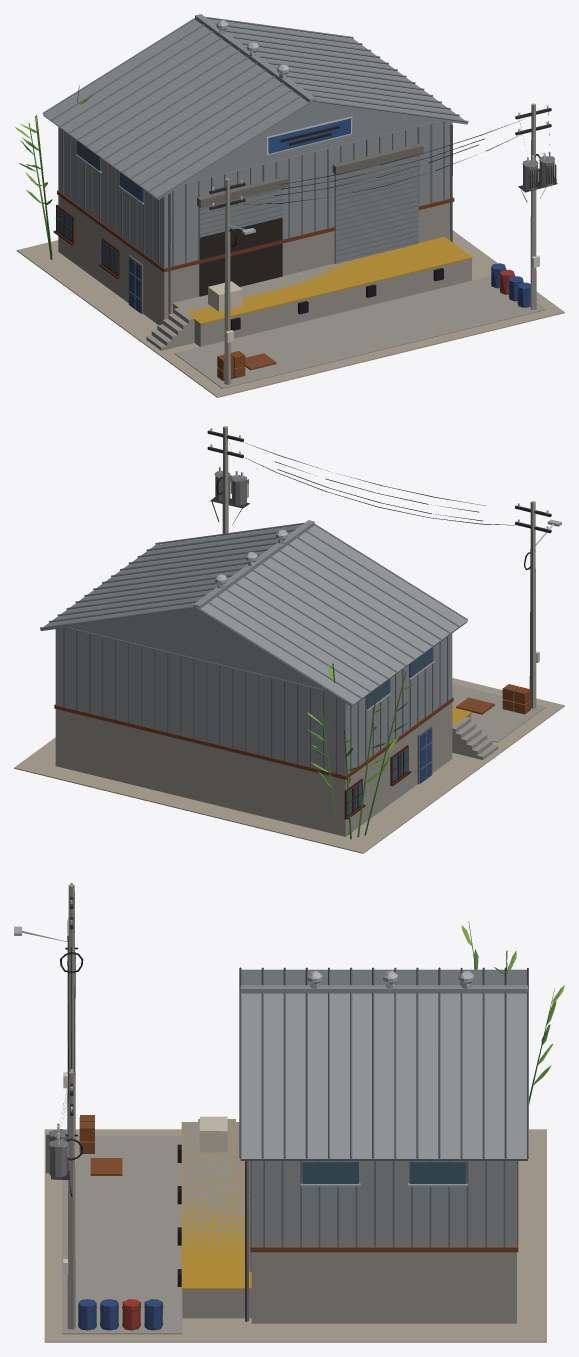
File: factory_2.glb
3 renders of one model, top to bottom at view 1: azimuth 30°, elevation 25°; view 2: azimuth 150°, elevation 25°; view 3: azimuth 270°, elevation 25°, orthographic. The views are drawn at different scales.
Visible parts, largest first — view 1: body, windows; view 2: body, windows; view 3: body, windows.
Part boxes in pixels (<box>): body: <box>14,14,564,397</box>; windows: <box>56,141,282,296</box>; body: <box>14,426,564,853</box>; windows: <box>347,647,433,814</box>; body: <box>14,882,564,1342</box>; windows: <box>302,1161,466,1183</box>.
Bounding box in the file's own units: 16.89 × 9.27 × 17.45.
